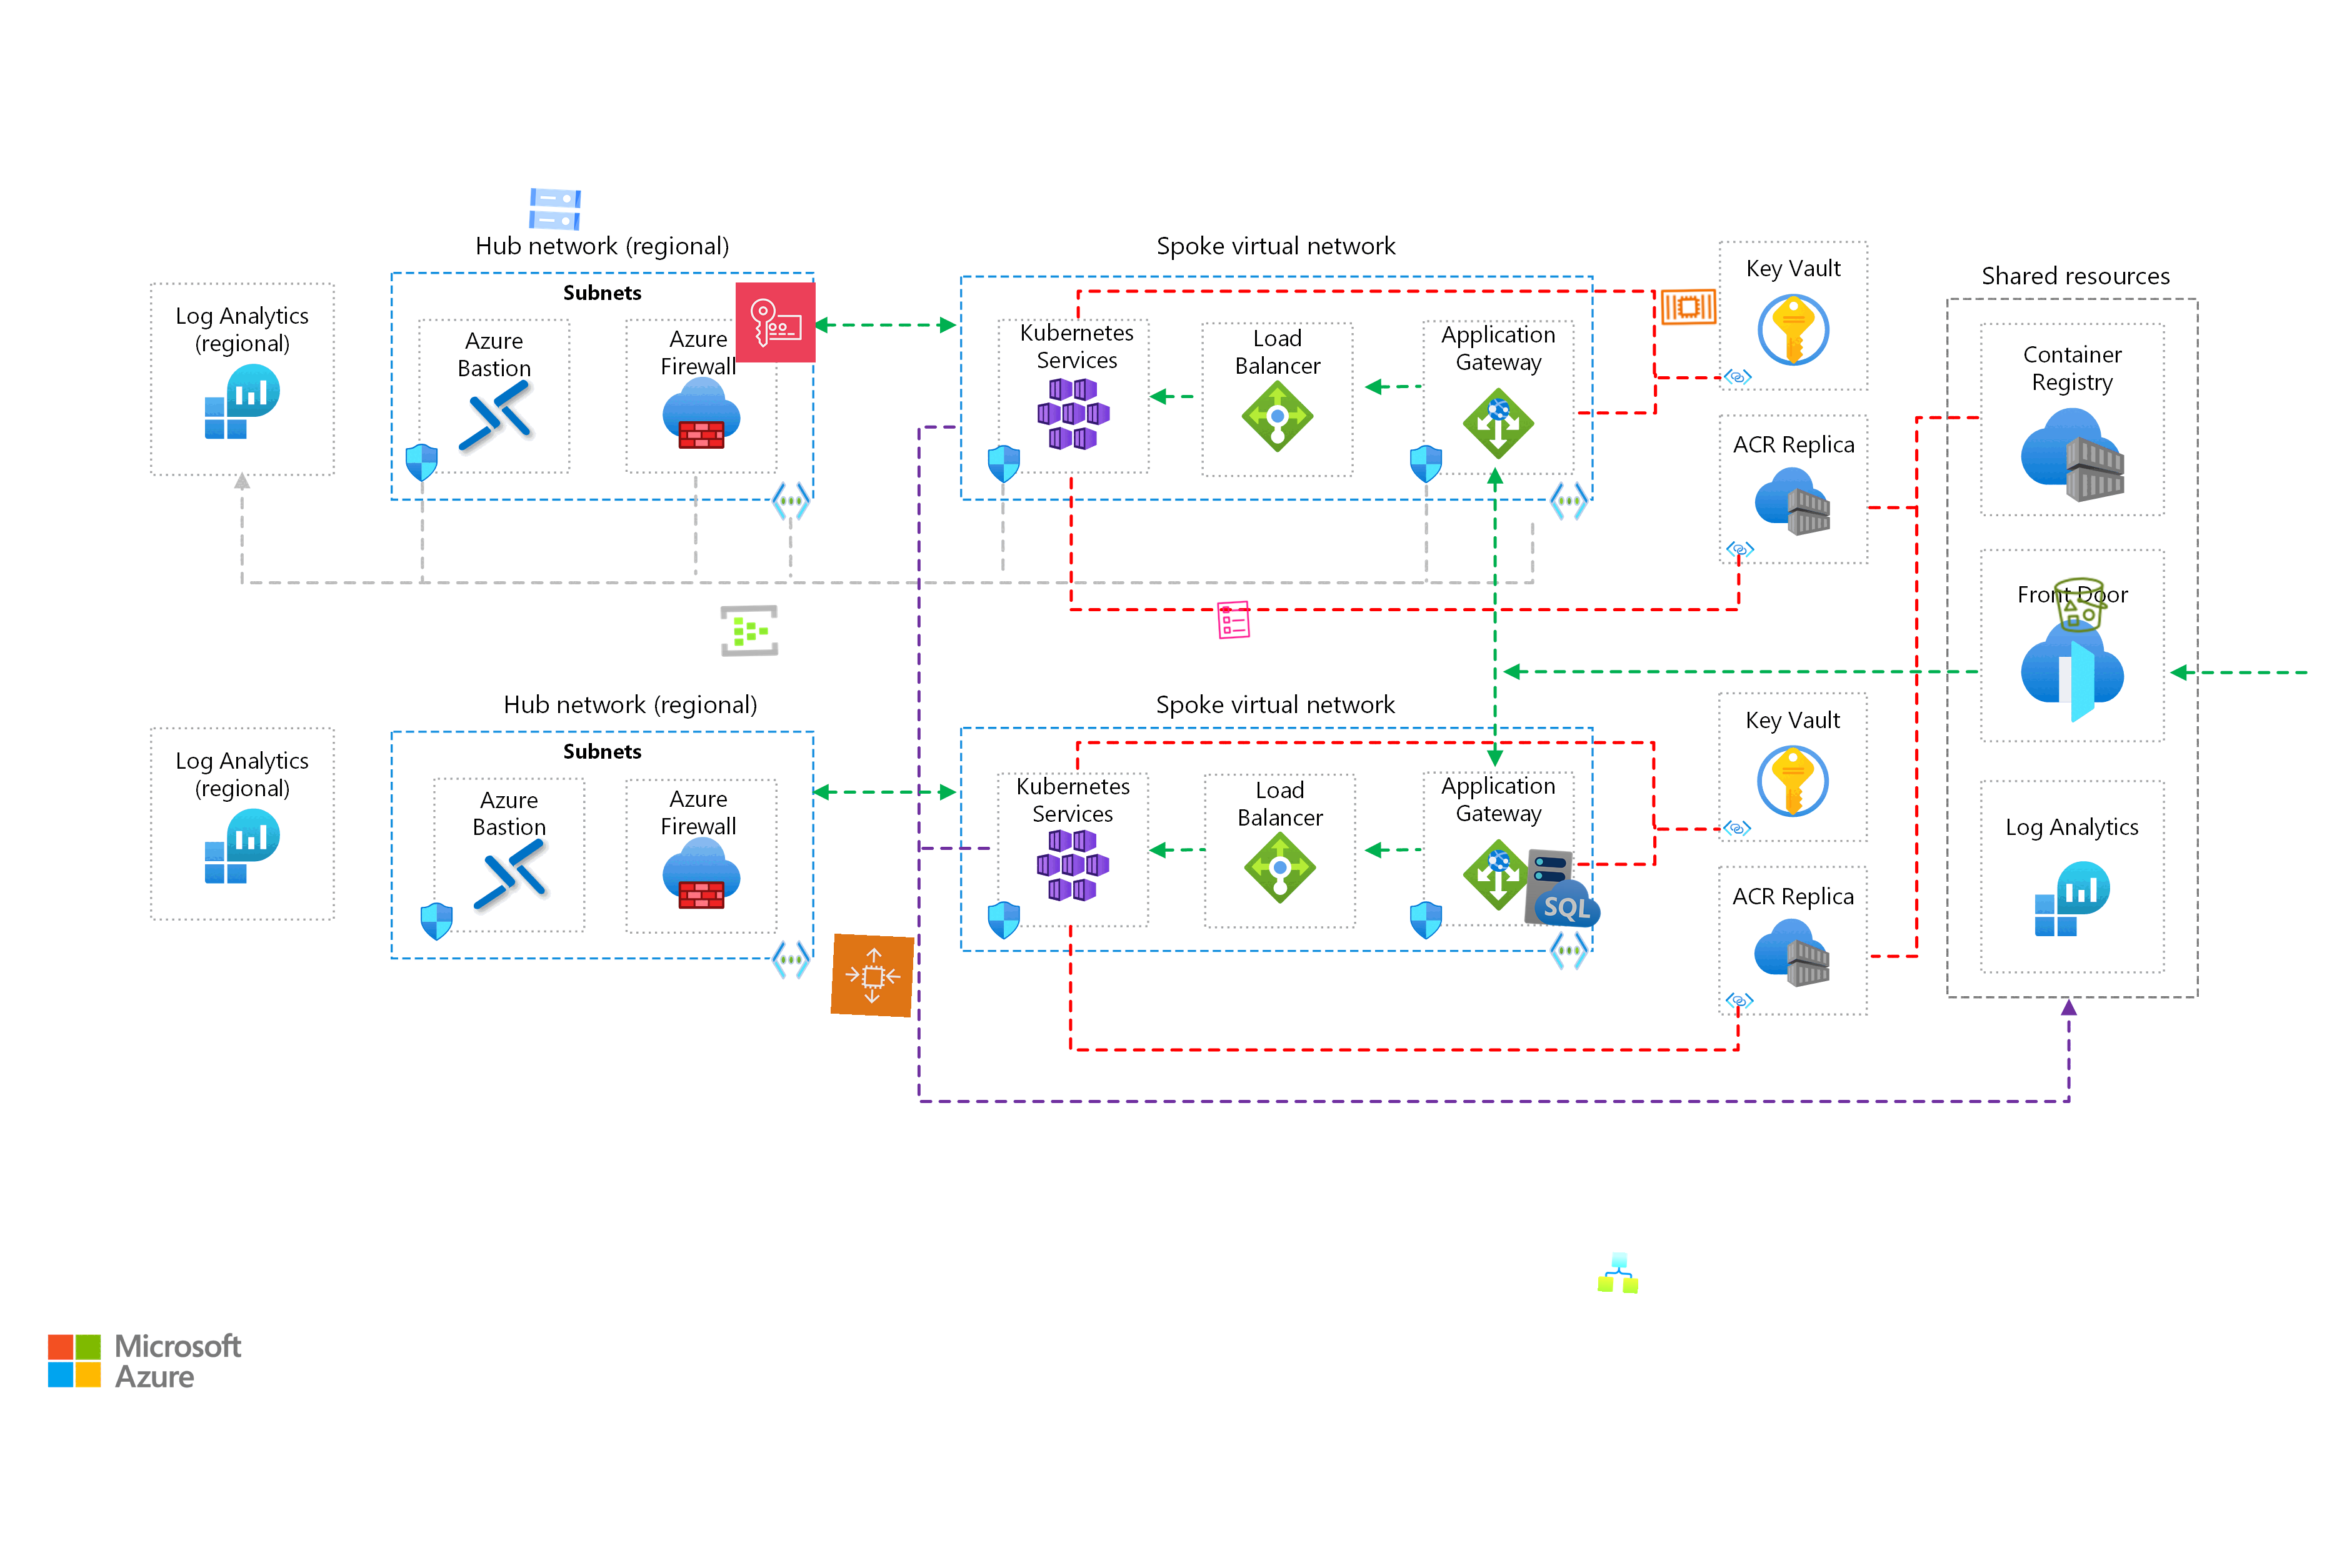aws_amazon_ec2_auto_scaling: (830, 933, 915, 1018)
aws_cloudformation_template: (1213, 598, 1255, 640)
aws_elastic_container_service_container_2: (1659, 276, 1720, 338)
aws_key_management_service: (735, 282, 815, 362)
aws_simple_storage_service_bucket_with_objects: (2049, 572, 2114, 637)
azure_event_hubs: (717, 598, 780, 661)
azure_logic_apps: (1598, 1251, 1640, 1293)
azure_sql_managed_instance: (1521, 845, 1608, 931)
gcp_cloud_storage: (523, 177, 586, 241)
